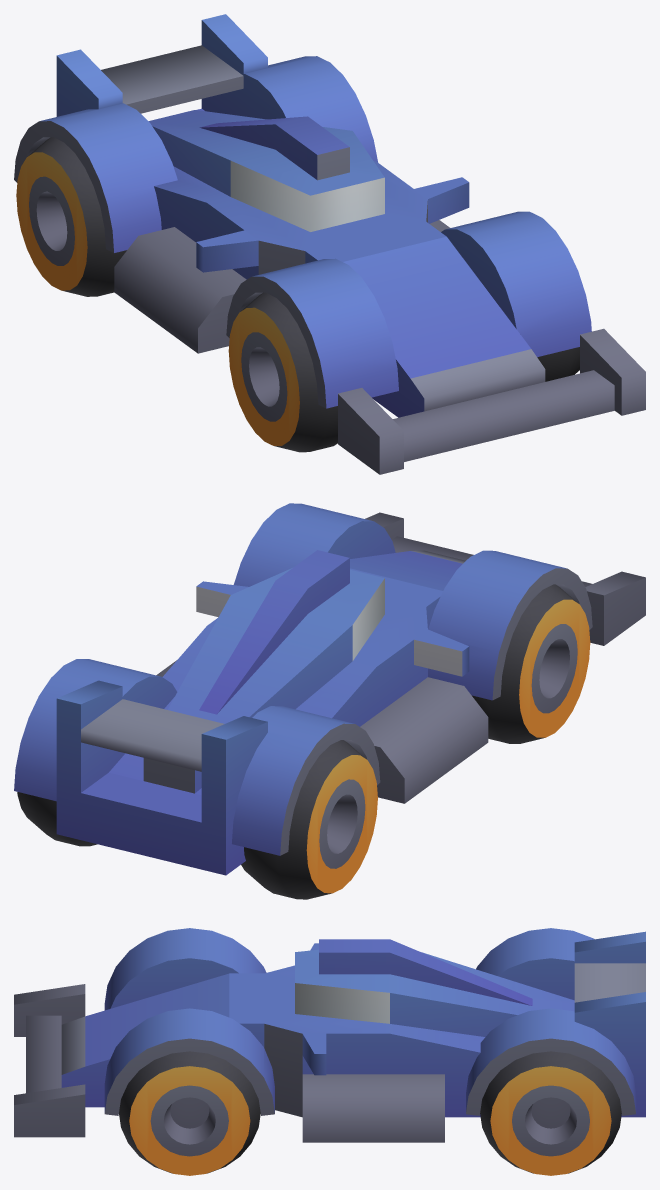
Rendered from race-future.glb.
3 renders of one model, top to bottom at view 1: azimuth 30°, elevation 25°; view 2: azimuth 150°, elevation 25°; view 3: azimuth 270°, elevation 25°, orthographic. The views are drawn at different scales.
Visible parts, largest first — view 1: body; view 2: body; view 3: body.
Part boxes in pixels (x1,y1,x2,y2): body: [14, 14, 645, 474]; body: [14, 503, 645, 899]; body: [14, 928, 645, 1175].
Size of the model in its own units: 1.2 by 0.8326 by 2.66.
1 material, 1 textured.
